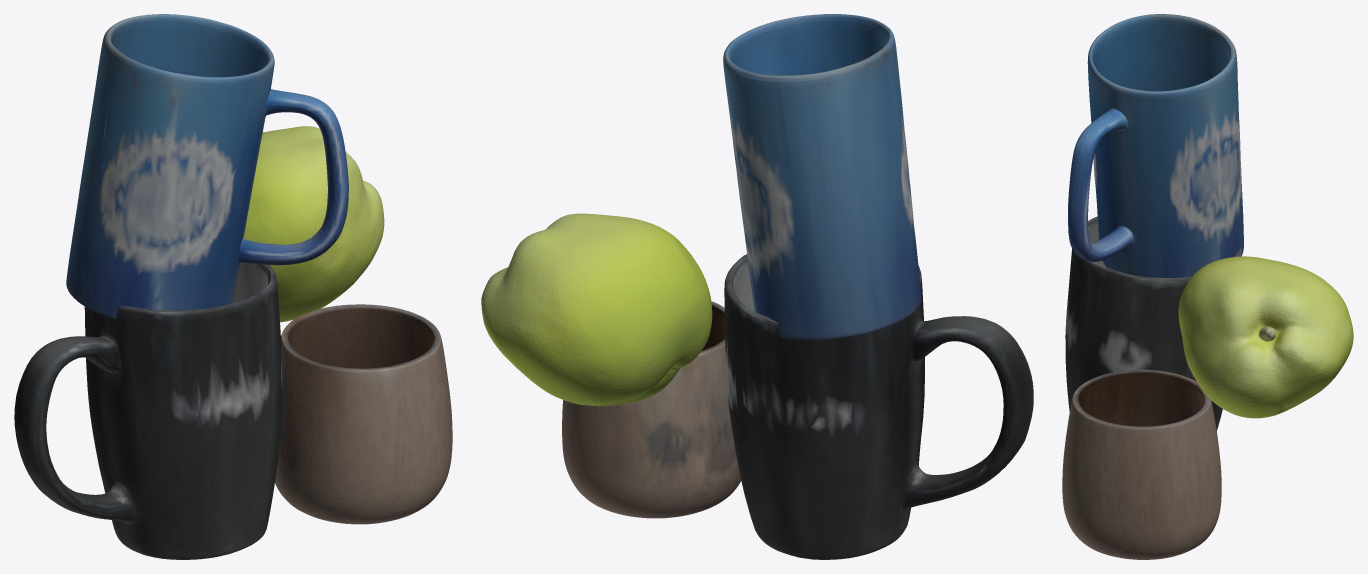
The model's file is sam3d.glb.
3 views of the same model, side by side, from view 1: azimuth 30°, elevation 25°; view 2: azimuth 150°, elevation 25°; view 3: azimuth 270°, elevation 25° (orthographic). The views are drawn at different scales.
Visible parts, largest first — view 1: object_02, object_03, object_00, object_01; view 2: object_02, object_03, object_01, object_00; view 3: object_02, object_00, object_01, object_03.
Part boxes in pixels (<box>): object_02: <box>66,14,348,318</box>; object_03: <box>14,262,282,559</box>; object_00: <box>275,304,452,524</box>; object_01: <box>243,126,384,322</box>; object_02: <box>723,14,921,340</box>; object_03: <box>724,254,1033,559</box>; object_01: <box>481,213,712,406</box>; object_00: <box>562,301,741,518</box>; object_02: <box>1068,14,1243,277</box>; object_00: <box>1062,369,1221,559</box>; object_01: <box>1178,256,1353,418</box>; object_03: <box>1065,216,1241,430</box>.
Size of the model in its own units: 0.8725 by 0.9495 by 0.5868.
